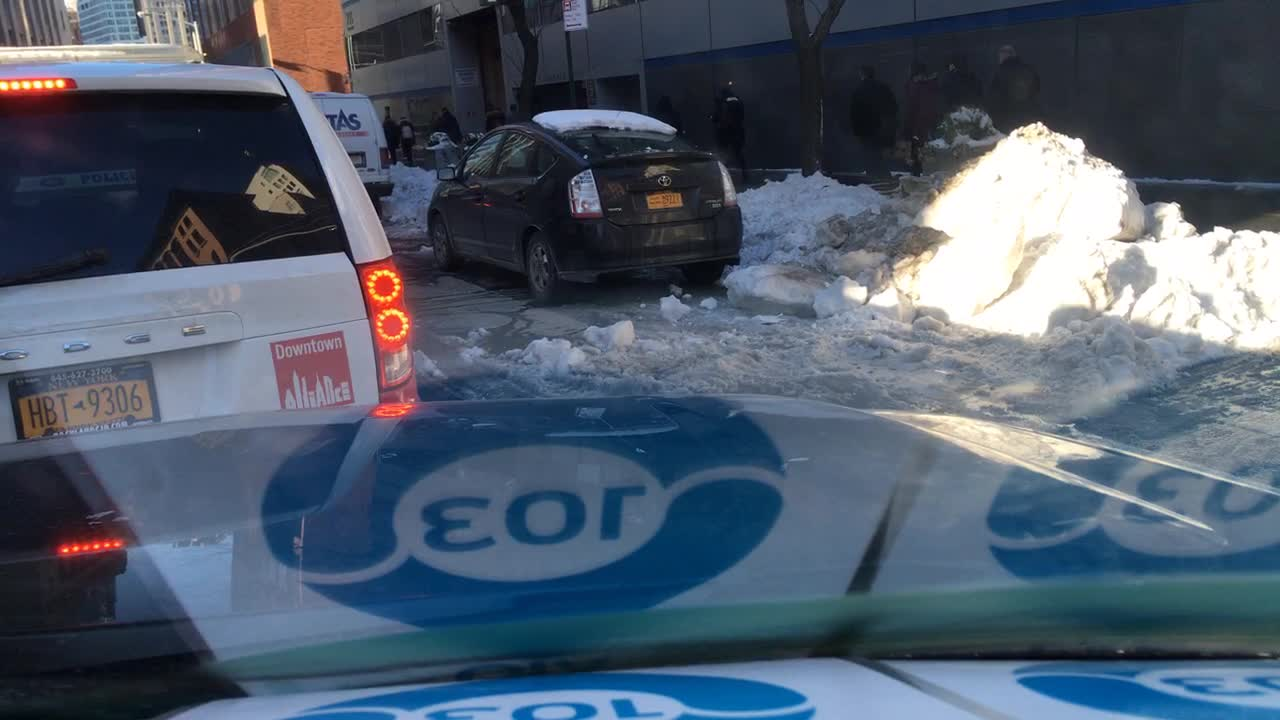car: (4, 36, 437, 415), (430, 112, 747, 309)
